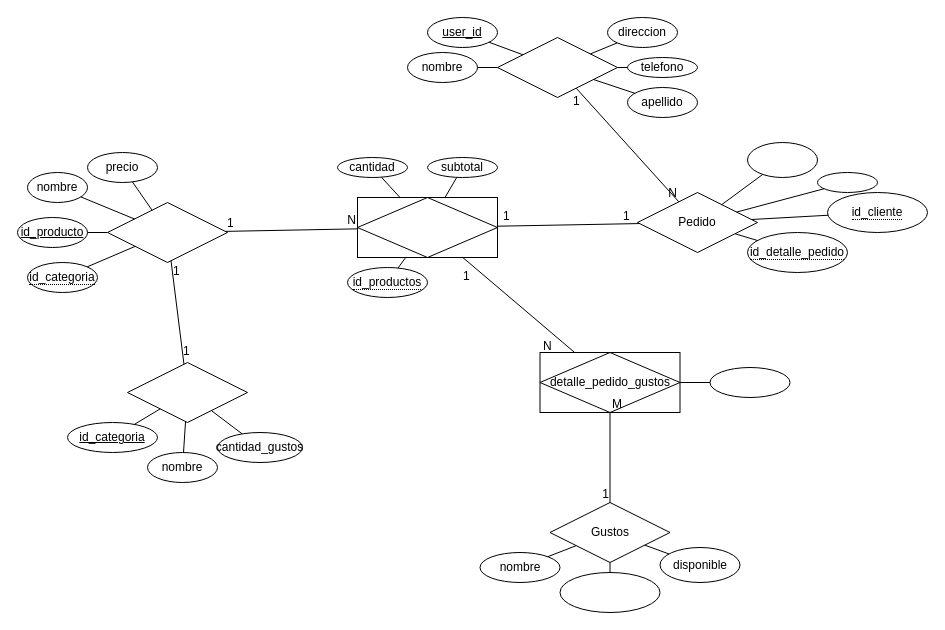
Some shapes in this 945 by 630 pixel diagram are drawn without their labels. The shapes that lost their labels are listed below. From the top down, each one's centre as x and y in pixels, then its label:
the point at 557,67: Cliente
the point at 782,160: id_pedido
the point at 847,182: fecha
the point at 167,232: Producto
the point at 427,227: detalle_pedido
the point at 187,392: Categoria
the point at 749,382: id_gustos
the point at 609,592: id_gusto
